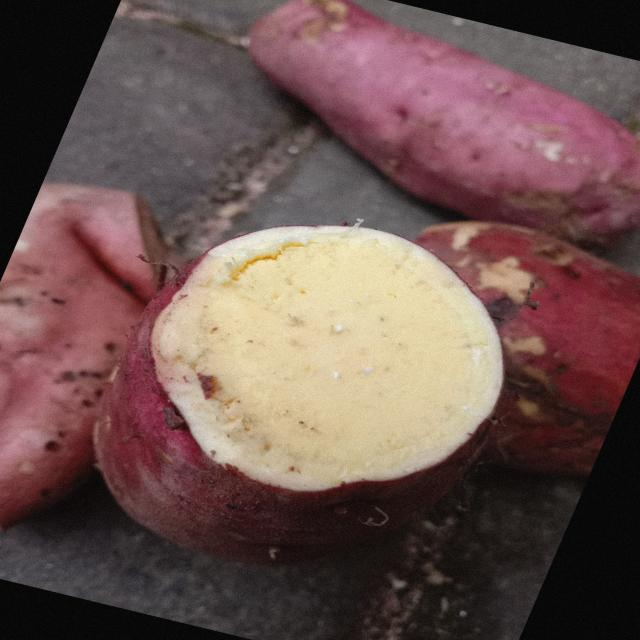Healthy Sweet Potato: (152, 226, 502, 490)
